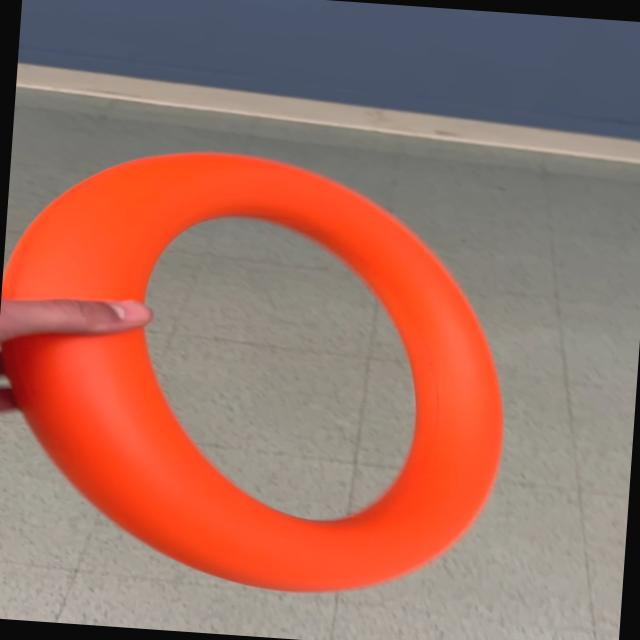note: (0, 135, 525, 606)
